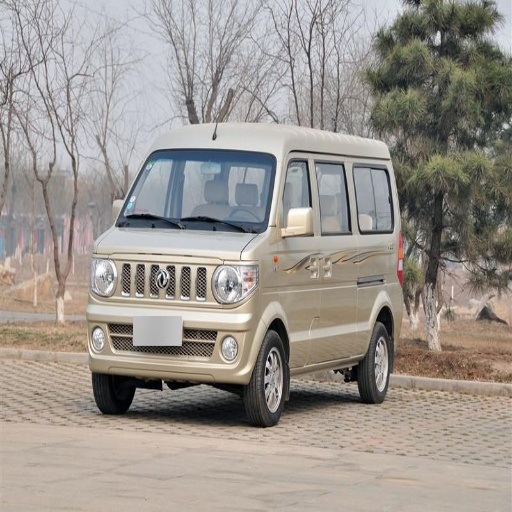back_left_door: (315, 156, 390, 353)
front_bumper: (90, 257, 264, 381)
front_glass: (118, 150, 276, 231)
front_left_door: (278, 154, 339, 363)
